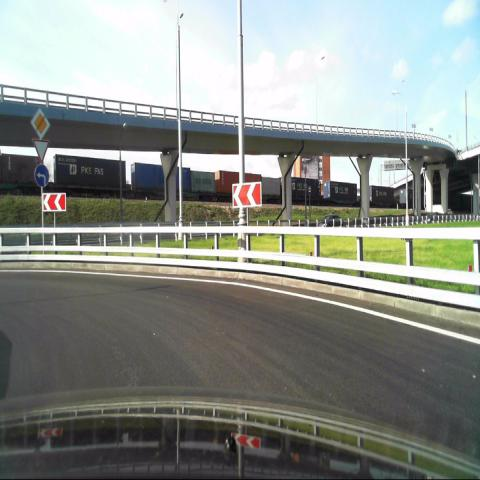4_1_3: (34, 163, 52, 189)
